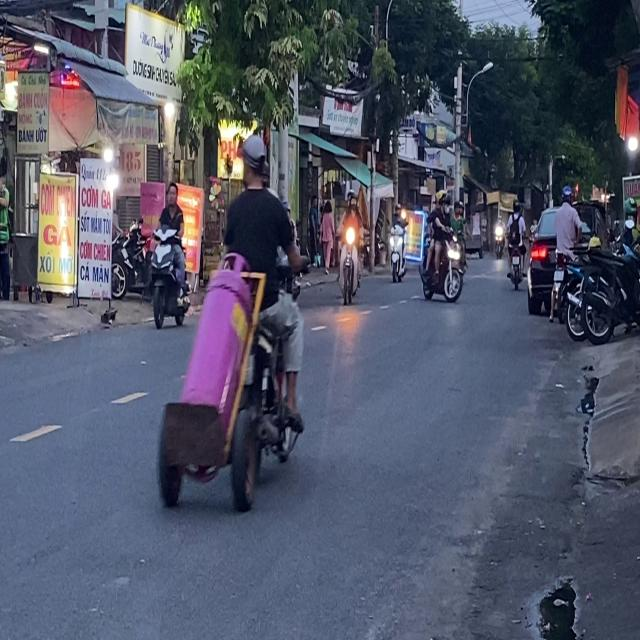licenseplate: (187, 130, 307, 511), (147, 181, 190, 330)
motorcyclist: (239, 133, 268, 186), (165, 182, 178, 206)
